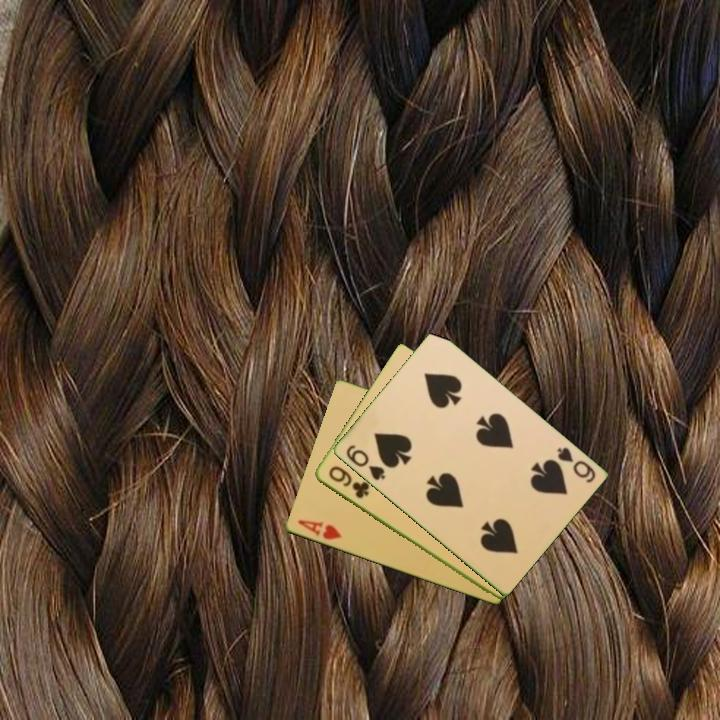6s: (342, 441, 388, 484), (553, 444, 598, 486)
9c: (324, 462, 371, 502)
Ah: (294, 516, 344, 543)
